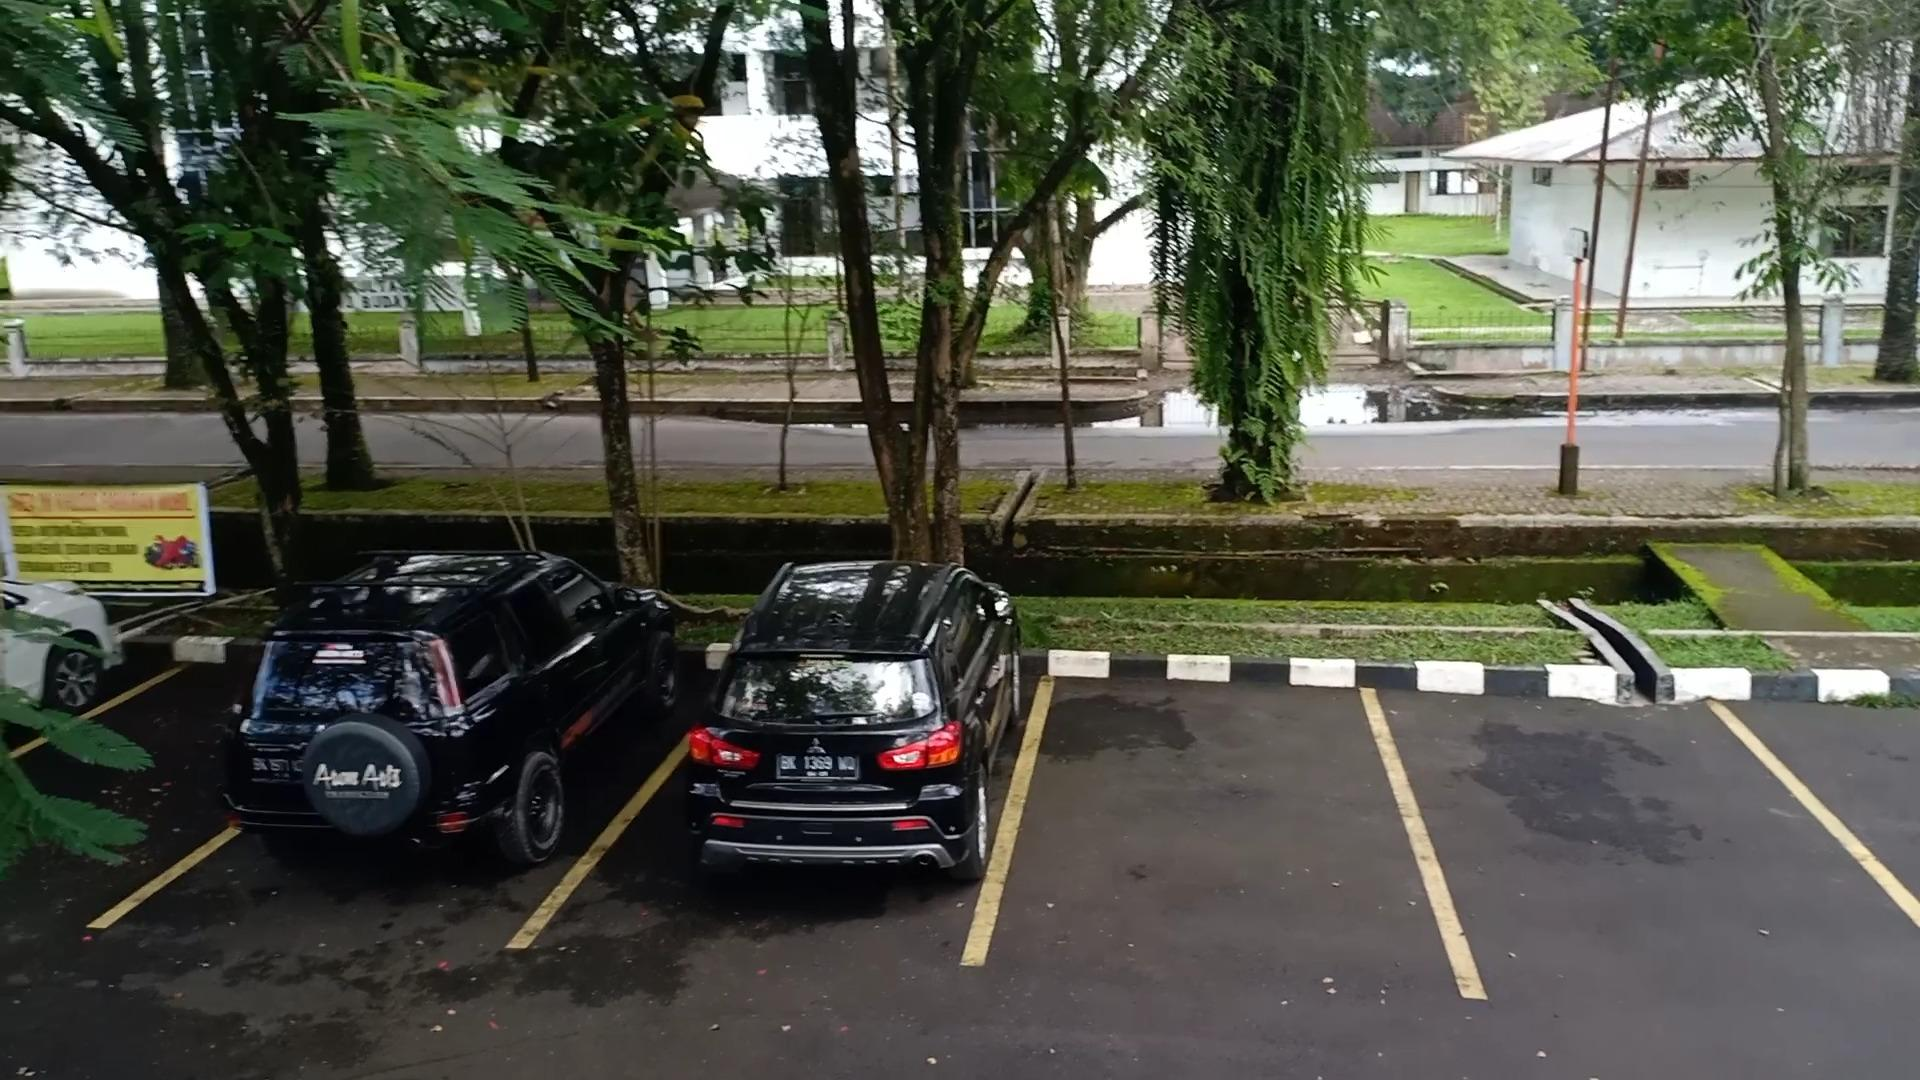empty: (999, 642, 1445, 994), (1433, 685, 1829, 993)
occupied: (215, 617, 671, 950), (644, 612, 1021, 960)
